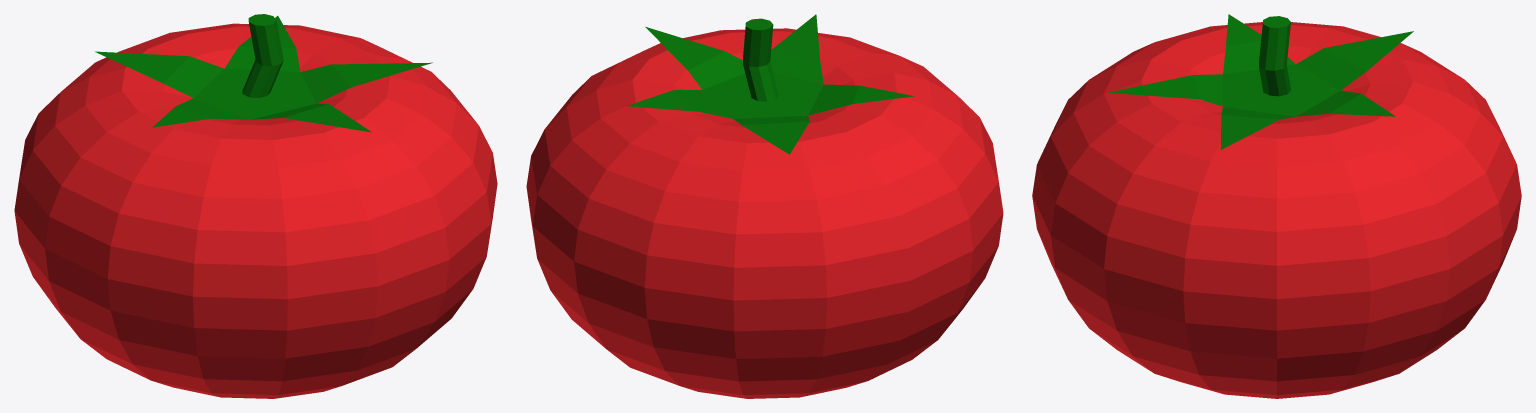
The model's file is Tomato.fbx.
3 views of the same model, side by side, from view 1: azimuth 30°, elevation 25°; view 2: azimuth 150°, elevation 25°; view 3: azimuth 270°, elevation 25° (orthographic).
Parts seen in each view (by area): view 1: Sphere; view 2: Sphere; view 3: Sphere.
Boxes of the visible parts, x1,y1,x2,y2 form: Sphere: (14,14,497,398); Sphere: (526,14,1003,398); Sphere: (1032,14,1521,398).
Bounding box in the file's own units: 200 × 155 × 200.
